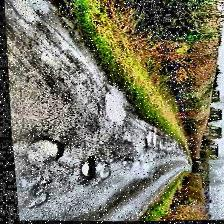pothole: (20, 135, 66, 167), (100, 86, 134, 126), (72, 157, 98, 181), (140, 126, 158, 148)
